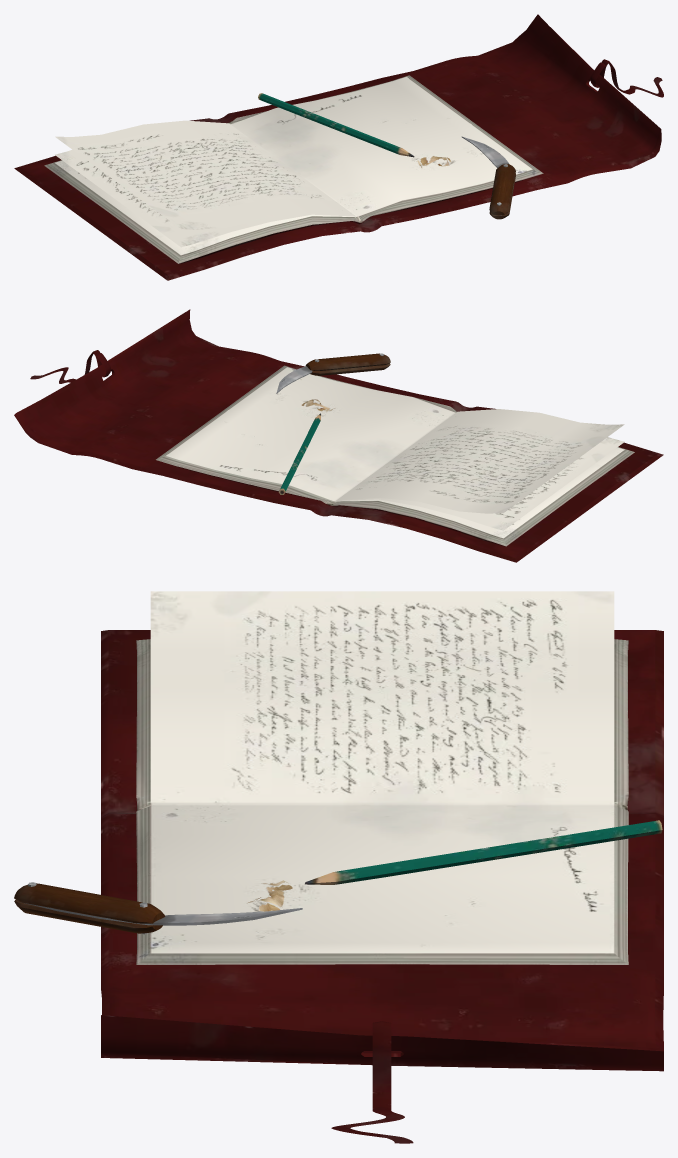
The model's file is journal.opt.glb.
3 renders of one model, top to bottom at view 1: azimuth 30°, elevation 25°; view 2: azimuth 150°, elevation 25°; view 3: azimuth 270°, elevation 25°, orthographic. The views are drawn at different scales.
Parts seen in each view (by area): view 1: defaultMaterial; view 2: defaultMaterial; view 3: defaultMaterial.
Boxes of the visible parts, x1,y1,x2,y2 form: defaultMaterial: (14, 14, 663, 280); defaultMaterial: (14, 309, 663, 562); defaultMaterial: (14, 591, 663, 1143).
Bounding box in the file's own units: 2 × 0.1356 × 1.07.
1 material, 1 textured.
